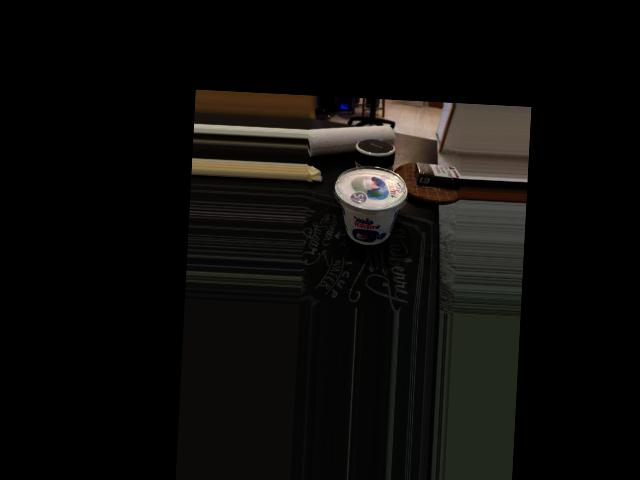cotage: (331, 163, 405, 251)
